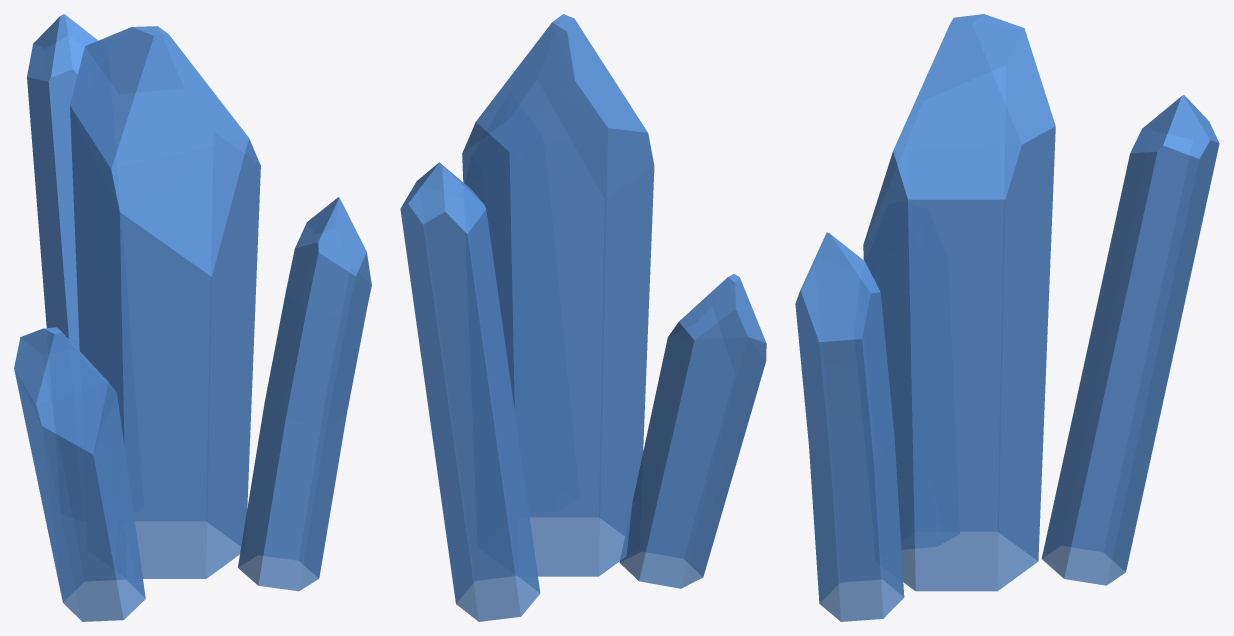
The model's file is Crystals_l_03.fbx.
The picture shows the model from 3 angles, left to right: view 1: azimuth 30°, elevation 25°; view 2: azimuth 150°, elevation 25°; view 3: azimuth 270°, elevation 25°; orthographic projection. The views are drawn at different scales.
Visible parts, largest first — view 1: Crystals_l_03; view 2: Crystals_l_03; view 3: Crystals_l_03.
Boxes of the visible parts, x1=… form: Crystals_l_03: x1=14, y1=14, x2=371, y2=621; Crystals_l_03: x1=400, y1=14, x2=766, y2=621; Crystals_l_03: x1=795, y1=14, x2=1219, y2=621.
Bounding box in the file's own units: 266 × 449 × 308.
